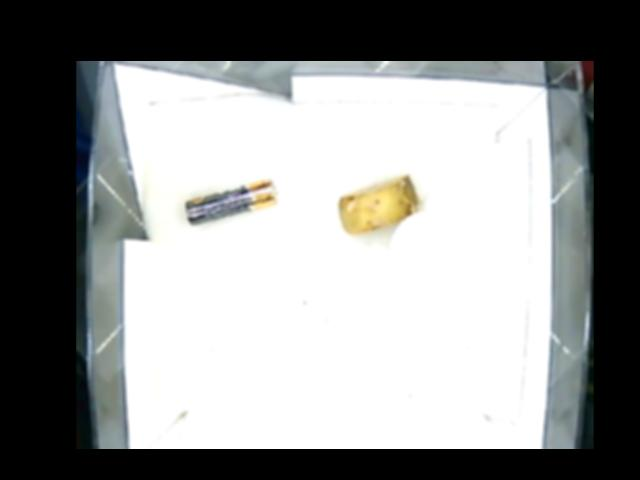Battery: (183, 177, 280, 224)
Cup: (386, 209, 484, 305)
Potato: (336, 177, 423, 234)
